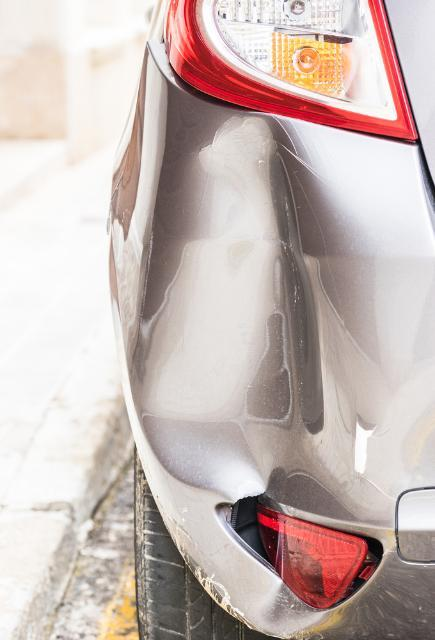dent: (137, 116, 384, 515)
scratch: (166, 504, 244, 621)
